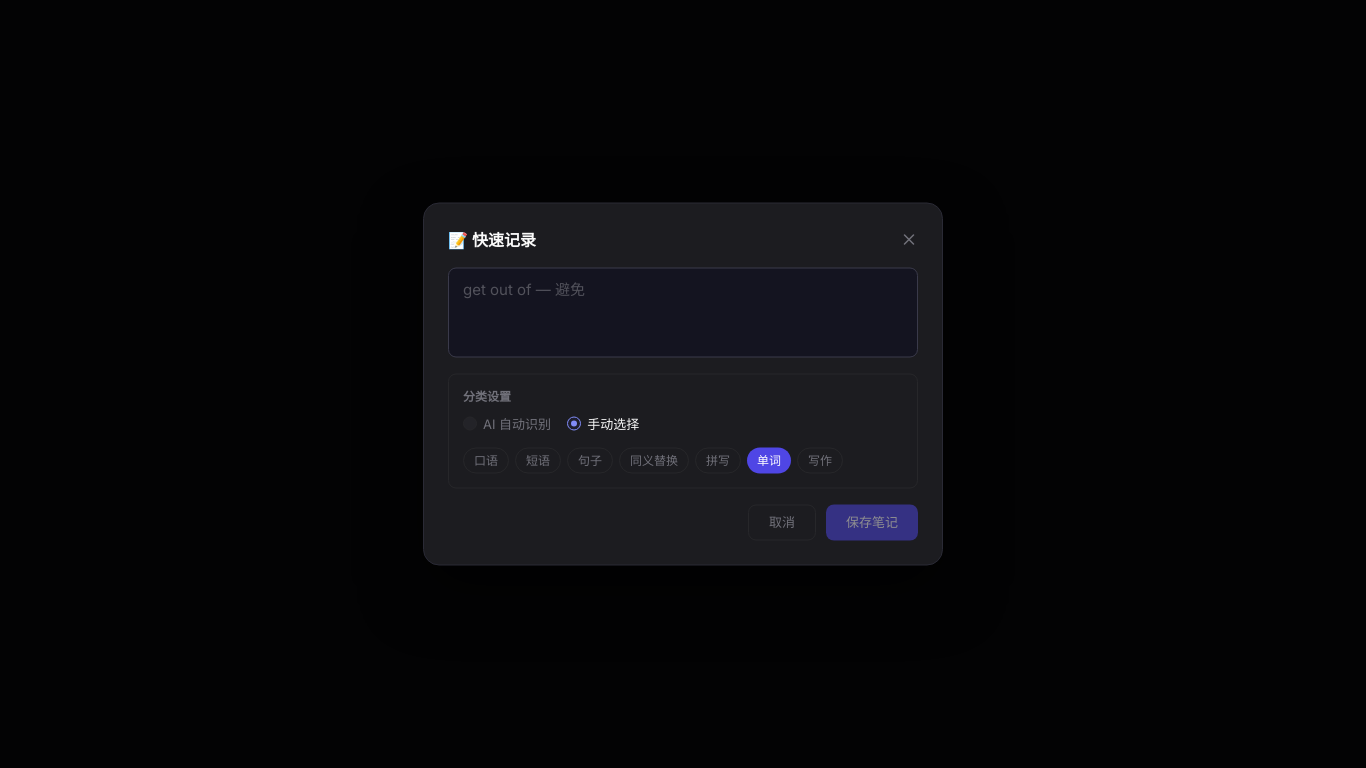
QuickNoteModal › 后端保存成功时显示后端成功提示
Type "remote note — 远端成功" into the text box with placeholder "get out of — 避免".
click(683, 312); type("remote note — 远端成功")  # box [448,268,918,357]
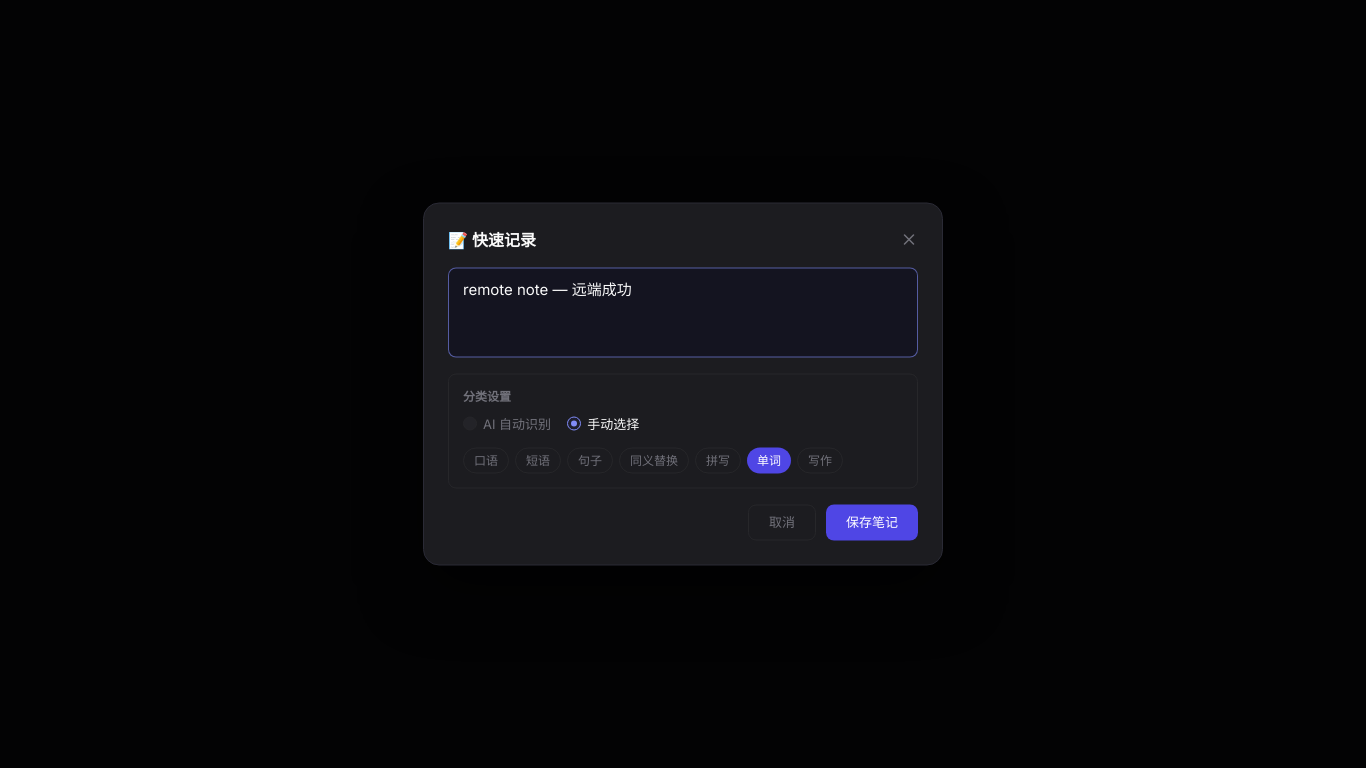
Click the button "保存笔记".
click(872, 522)  # box [826,504,918,540]
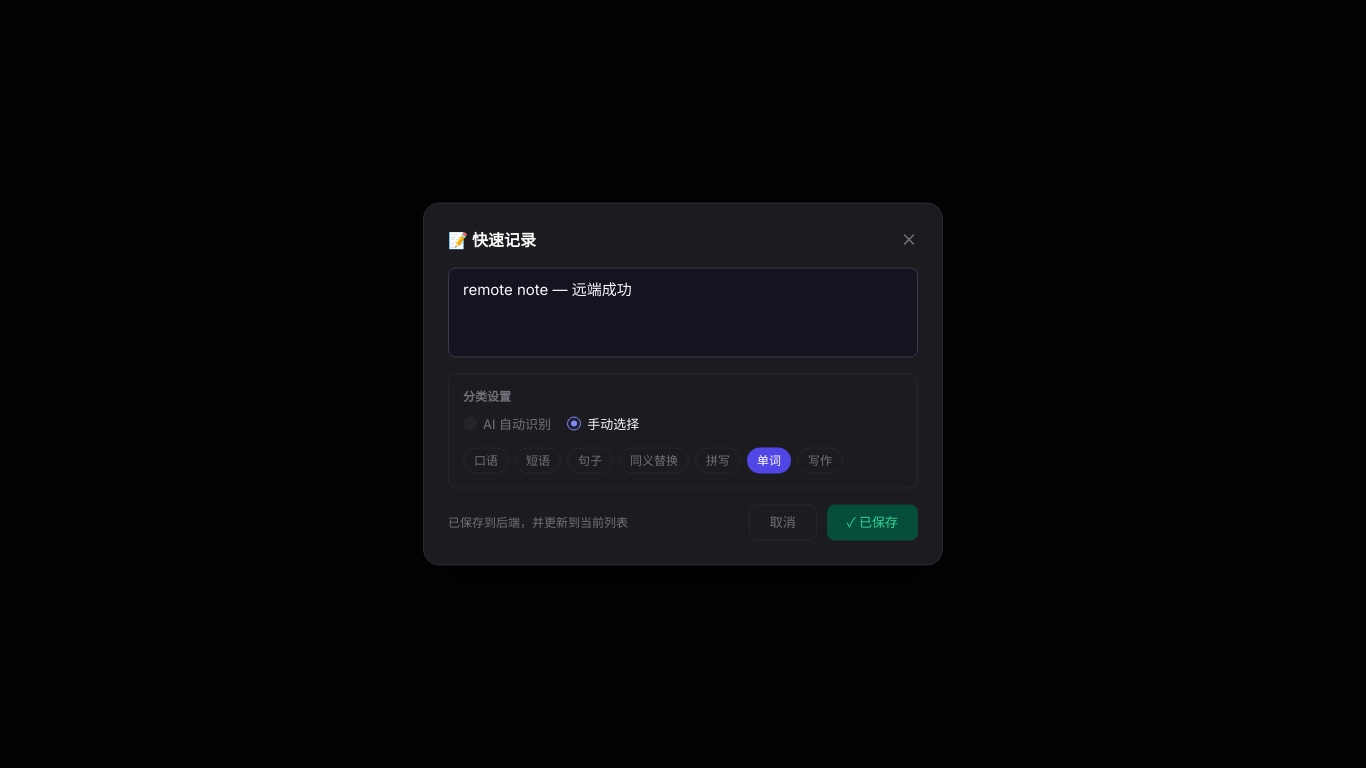
Now the text "已保存到后端，并更新到当前列表" is shown, box [448,514,628,532]
